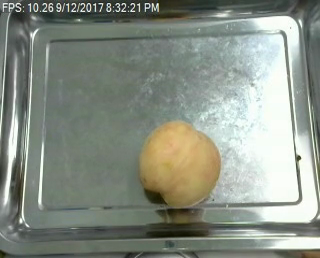Peach: (138, 119, 221, 208)
